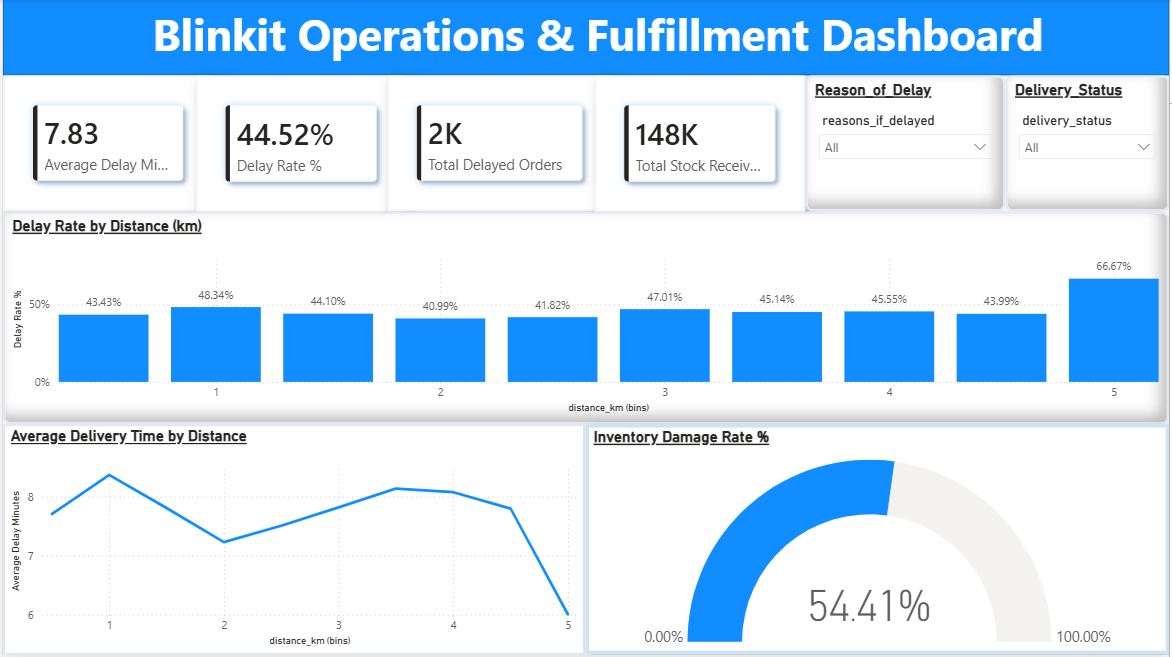

This screenshot's page, from the dashboard's own definition file:
{"tool":"powerbi","page":{"name":"operation and fulfillment","canvas":[1280,720],"ordinal":1},"visuals":[{"type":"shape","box":[0,0,1280.3,83.7],"z":0},{"type":"textbox","box":[159.2,0,1004.5,83.7],"z":1000},{"type":"cardVisual","fields":{"Data":["Measures (2).Average Delay Minutes"]},"box":[0,83.7,231.9,149.6],"z":2000},{"type":"cardVisual","fields":{"Data":["Measures (2).Delay Rate %"]},"box":[210.9,83.7,232,150],"z":3000},{"type":"cardVisual","fields":{"Data":["Measures (2).Total Delayed Orders"]},"box":[422,83.7,248.4,149.6],"z":4000},{"type":"cardVisual","fields":{"Data":["Measures (2).Total Stock Received"]},"box":[649.4,83.7,232,150],"z":5000},{"type":"lineChart","title":"Average Delivery Time by Distance","fields":{"Category":["transformed_delivery.distance_km (bins)"],"Y":["Measures (2).Average Delay Minutes"]},"box":[0,466.6,639.5,253.9],"z":6000},{"type":"clusteredColumnChart","title":"Delay Rate by Distance (km)","fields":{"Category":["transformed_delivery.distance_km (bins)"],"Y":["Measures (2).Delay Rate %"]},"box":[0,233.3,1280.3,233.3],"z":7000},{"type":"slicer","title":"Delivery_Status","fields":{"Values":["transformed_delivery.delivery_status"]},"box":[1100.5,83.7,179.8,149.6],"z":8000},{"type":"slicer","title":"Reason_of_Delay","fields":{"Values":["transformed_delivery.reasons_if_delayed"]},"box":[881,83.7,219.6,149.6],"z":9000},{"type":"gauge","title":"Inventory Damage Rate %","fields":{"Y":["Measures (2).Damage Rate %"]},"box":[639,467,641,253],"z":10000}]}

Visuals, with their boxes in screenshot pixels (x1, y1, x2, y2), scaled from the page's 1280x720 canvas onto the 1172x657 screenshot:
shape: <bbox>0, 0, 1171, 76</bbox>
textbox: <bbox>146, 0, 1066, 76</bbox>
cardVisual - Measures (2).Average Delay Minutes: <bbox>0, 76, 212, 213</bbox>
cardVisual - Measures (2).Delay Rate %: <bbox>193, 76, 406, 213</bbox>
cardVisual - Measures (2).Total Delayed Orders: <bbox>386, 76, 614, 213</bbox>
cardVisual - Measures (2).Total Stock Received: <bbox>595, 76, 807, 213</bbox>
"Average Delivery Time by Distance" lineChart: <bbox>0, 426, 586, 656</bbox>
"Delay Rate by Distance (km)" clusteredColumnChart: <bbox>0, 213, 1171, 426</bbox>
"Delivery_Status" slicer: <bbox>1008, 76, 1171, 213</bbox>
"Reason_of_Delay" slicer: <bbox>807, 76, 1008, 213</bbox>
"Inventory Damage Rate %" gauge: <bbox>585, 426, 1171, 656</bbox>
